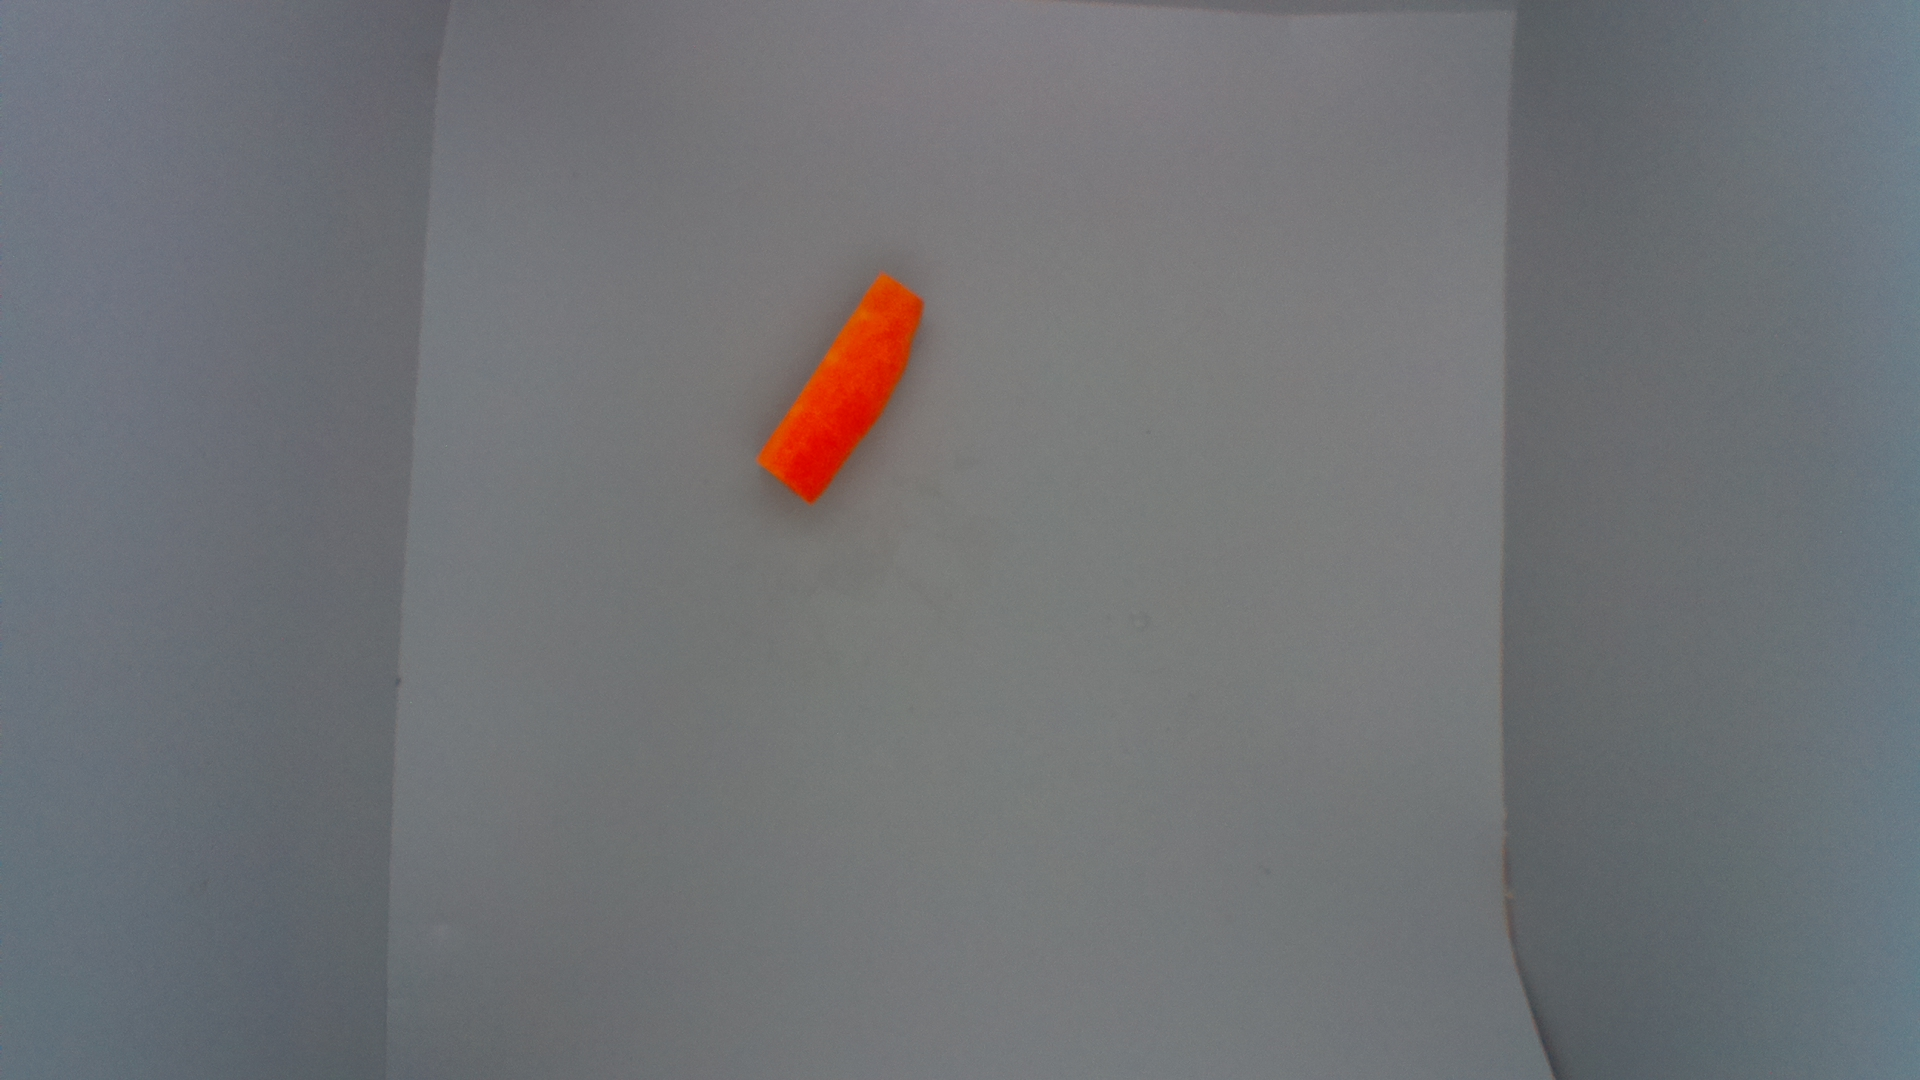carrot: (756, 272, 924, 512)
